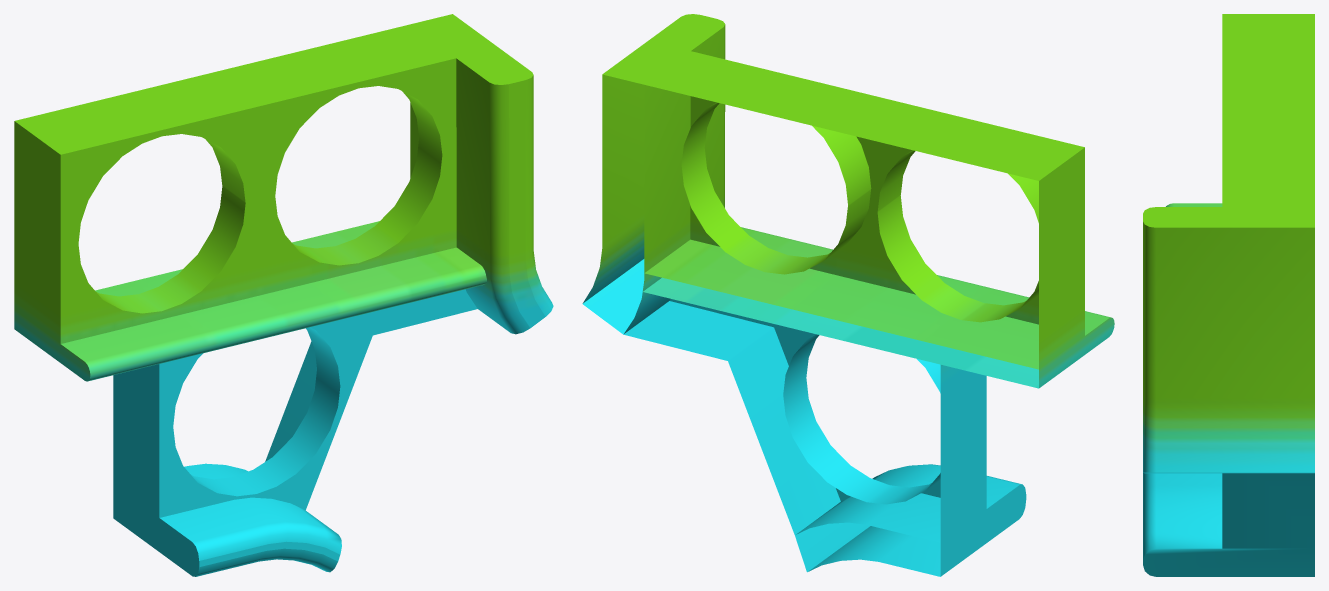
Rendered from Amongus02_Cut_0.FBX.
3 views of the same model, side by side, from view 1: azimuth 30°, elevation 25°; view 2: azimuth 150°, elevation 25°; view 3: azimuth 270°, elevation 25° (orthographic).
Visible parts, largest first — view 1: Amongus02_Cut_0; view 2: Amongus02_Cut_0; view 3: Amongus02_Cut_0.
Part boxes in pixels (<box>): Amongus02_Cut_0: <box>14,14,553,576</box>; Amongus02_Cut_0: <box>582,14,1114,576</box>; Amongus02_Cut_0: <box>1143,14,1314,576</box>.
Bounding box in the file's own units: 1.92 × 0.6244 × 1.8.
